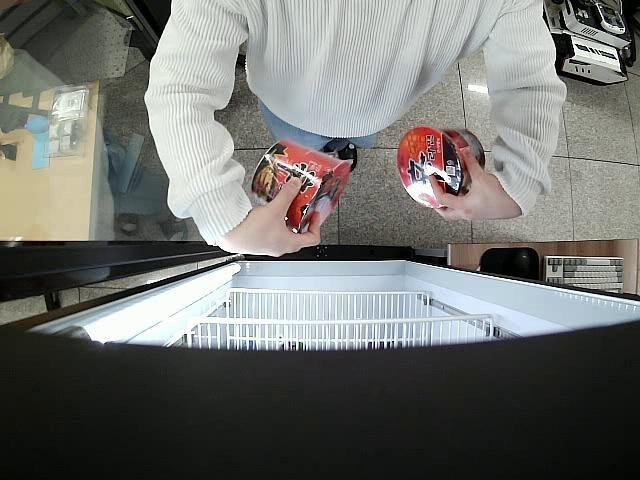01_ShinRamen_L: (250, 140, 352, 234), (398, 125, 485, 208)
